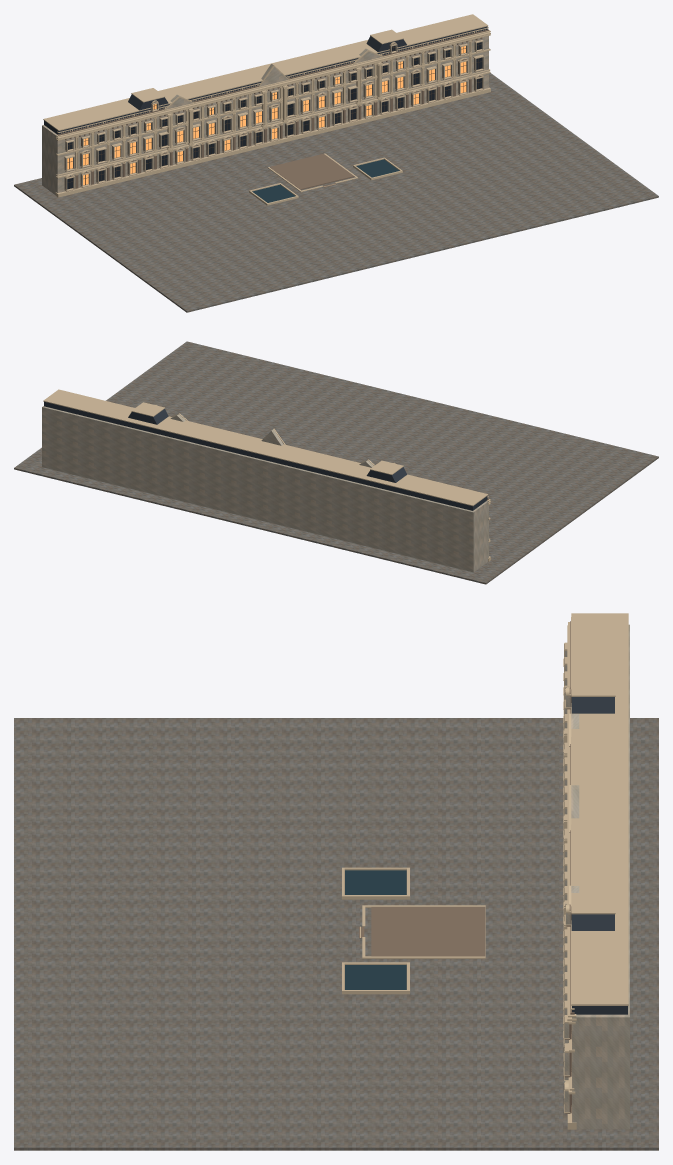
Rendered from courtyard.glb.
3 views of the same model, one above another, from view 1: azimuth 30°, elevation 25°; view 2: azimuth 150°, elevation 25°; view 3: azimuth 270°, elevation 25° (orthographic). The views are drawn at different scales.
Parts seen in each view (by area): view 1: Pavers, Trim, Limestone, Deep Stone, Dark Glass, Window Light, Roof, Window Metal, Pool; view 2: Pavers, Limestone, Trim, Roof; view 3: Pavers, Trim, Limestone, Deep Stone, Pool, Roof.
Part boxes in pixels (box(x1,y1,x2,y2)): Pavers: box(14, 73, 658, 312); Trim: box(43, 14, 490, 205); Limestone: box(42, 36, 488, 194); Deep Stone: box(57, 29, 488, 191); Dark Glass: box(67, 42, 482, 189); Window Light: box(67, 46, 466, 185); Roof: box(44, 26, 487, 134); Window Metal: box(67, 43, 481, 189); Pool: box(252, 159, 399, 202); Pavers: box(14, 341, 658, 584); Limestone: box(42, 404, 488, 572); Trim: box(43, 389, 490, 561); Roof: box(44, 401, 487, 510); Pavers: box(14, 718, 658, 1150); Trim: box(342, 613, 628, 1129); Limestone: box(564, 624, 629, 1129); Deep Stone: box(344, 621, 574, 1113); Pool: box(345, 870, 406, 989); Roof: box(571, 697, 627, 1014).
Bounding box in the file's own units: 93 × 15.23 × 59.
Materials: 9 (2 with a texture image).
